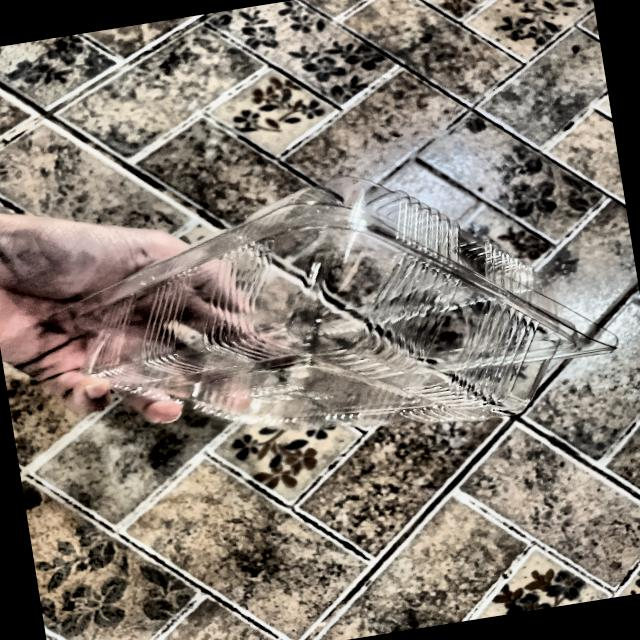plastic container: (47, 116, 636, 487)
